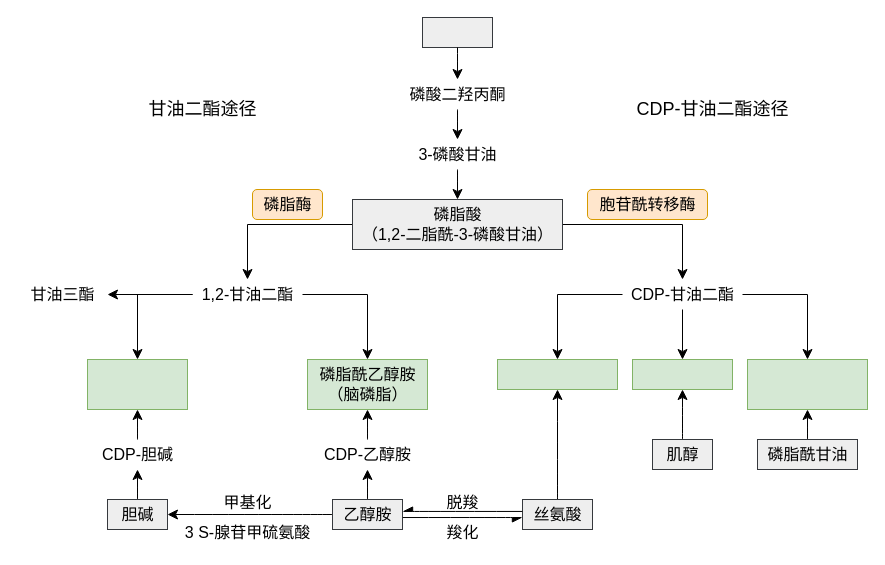
The diagram is 885 pixels wide and 565 high, and some of its shapes have lost their labels. The box of each missing label's shape, as (x1, y1, x2, y2) in pixels:
二磷脂酰甘油 （心磷脂）: (746, 358, 868, 410)
磷脂酰丝氨酸: (496, 358, 618, 390)
磷脂酰肌醇: (632, 358, 732, 390)
磷脂酰胆碱 （卵磷脂）: (86, 358, 188, 410)
葡萄糖: (422, 16, 492, 48)
